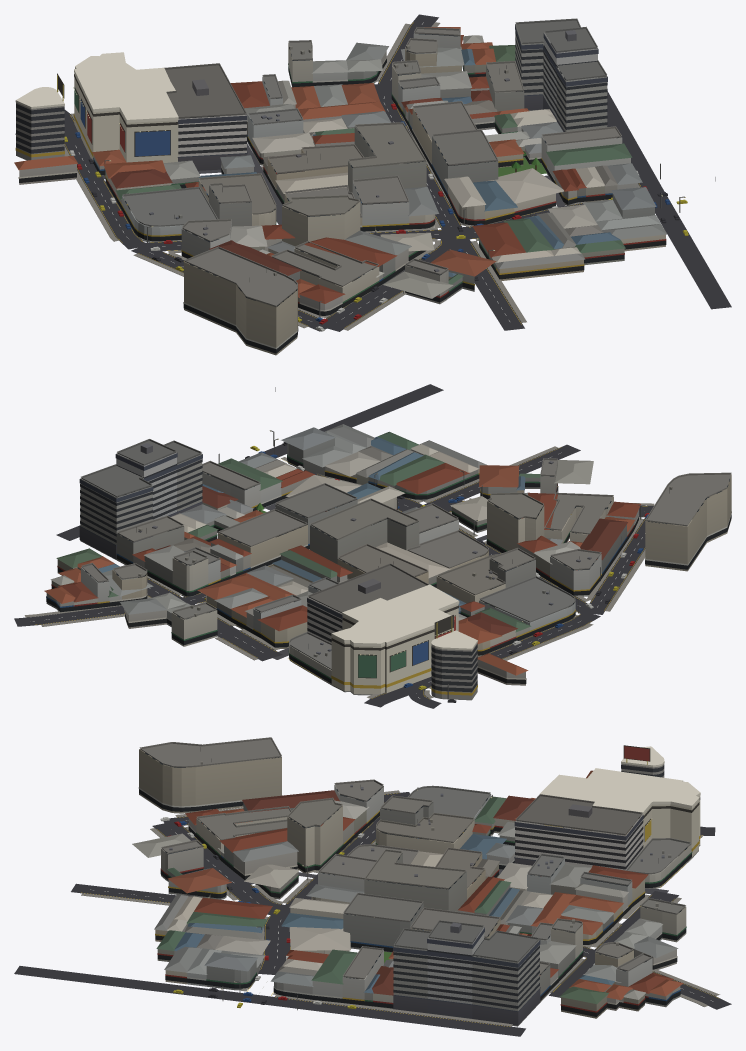
3 renders of one model, top to bottom at view 1: azimuth 30°, elevation 25°; view 2: azimuth 150°, elevation 25°; view 3: azimuth 270°, elevation 25°, orthographic. The views are drawn at different scales.
Visible parts, largest first — view 1: Buildings__r-18c-6-col, Roads_Major__r-18c-6, Metro Department Store-col, Windows__r-18c-6, LUYM Building-col, Limbonfing y Hermanos-col, Colon Corner Block-col, Hotel Fortuna-col, Orient Pearl Building-col, Sidewalks__r-18c-6-col, PBCom-col, Props_Solid__r-18c-6-col (+7 smaller); view 2: Buildings__r-18c-6-col, Metro Department Store-col, Roads_Major__r-18c-6, LUYM Building-col, Windows__r-18c-6, Limbonfing y Hermanos-col, Colon Corner Block-col, Sidewalks__r-18c-6-col, Hotel Fortuna-col, Chester Enterprises-col, Orient Pearl Building-col, J. King Building-col (+3 smaller); view 3: Buildings__r-18c-6-col, Roads_Major__r-18c-6, LUYM Building-col, Metro Department Store-col, Windows__r-18c-6, Orient Pearl Building-col, Hotel Fortuna-col, Chester Enterprises-col, Sidewalks__r-18c-6-col, Limbonfing y Hermanos-col, Visayan Educational Supply Corporation-col, PBCom-col (+4 smaller).
Boxes of the visible parts, bbox=[...] form: Buildings__r-18c-6-col: bbox=[14, 26, 715, 355]; Roads_Major__r-18c-6: bbox=[15, 14, 731, 331]; Metro Department Store-col: bbox=[73, 52, 178, 163]; Windows__r-18c-6: bbox=[18, 34, 666, 353]; LUYM Building-col: bbox=[515, 18, 607, 131]; Limbonfing y Hermanos-col: bbox=[122, 186, 218, 242]; Colon Corner Block-col: bbox=[15, 73, 64, 160]; Hotel Fortuna-col: bbox=[282, 195, 360, 246]; Orient Pearl Building-col: bbox=[431, 129, 498, 198]; Sidewalks__r-18c-6-col: bbox=[64, 22, 639, 330]; PBCom-col: bbox=[486, 168, 563, 216]; Props_Solid__r-18c-6-col: bbox=[64, 103, 688, 331]; Buildings__r-18c-6-col: bbox=[44, 387, 731, 685]; Metro Department Store-col: bbox=[331, 584, 459, 695]; Roads_Major__r-18c-6: bbox=[14, 384, 653, 708]; LUYM Building-col: bbox=[79, 440, 202, 559]; Windows__r-18c-6: bbox=[46, 454, 731, 683]; Limbonfing y Hermanos-col: bbox=[479, 576, 575, 636]; Colon Corner Block-col: bbox=[431, 615, 477, 700]; Sidewalks__r-18c-6-col: bbox=[24, 446, 654, 698]; Hotel Fortuna-col: bbox=[486, 492, 544, 552]; Chester Enterprises-col: bbox=[436, 554, 517, 607]; Orient Pearl Building-col: bbox=[275, 483, 357, 549]; J. King Building-col: bbox=[407, 530, 488, 570]; Buildings__r-18c-6-col: bbox=[132, 737, 691, 1018]; Roads_Major__r-18c-6: bbox=[14, 792, 731, 1036]; LUYM Building-col: bbox=[393, 928, 540, 1026]; Metro Department Store-col: bbox=[540, 768, 700, 858]; Windows__r-18c-6: bbox=[138, 753, 692, 1016]; Orient Pearl Building-col: bbox=[343, 892, 423, 952]; Hotel Fortuna-col: bbox=[287, 797, 343, 873]; Chester Enterprises-col: bbox=[375, 812, 474, 853]; Sidewalks__r-18c-6-col: bbox=[81, 790, 719, 1026]; Limbonfing y Hermanos-col: bbox=[407, 785, 491, 836]; Visayan Educational Supply Corporation-col: bbox=[233, 841, 298, 880]; PBCom-col: bbox=[289, 927, 350, 954].
Size of the model in its own units: 295 by 45.4 by 353.
